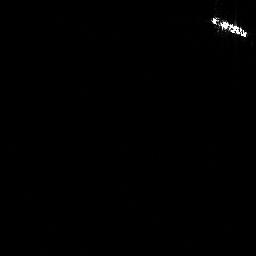ship: (208, 13, 249, 41)
